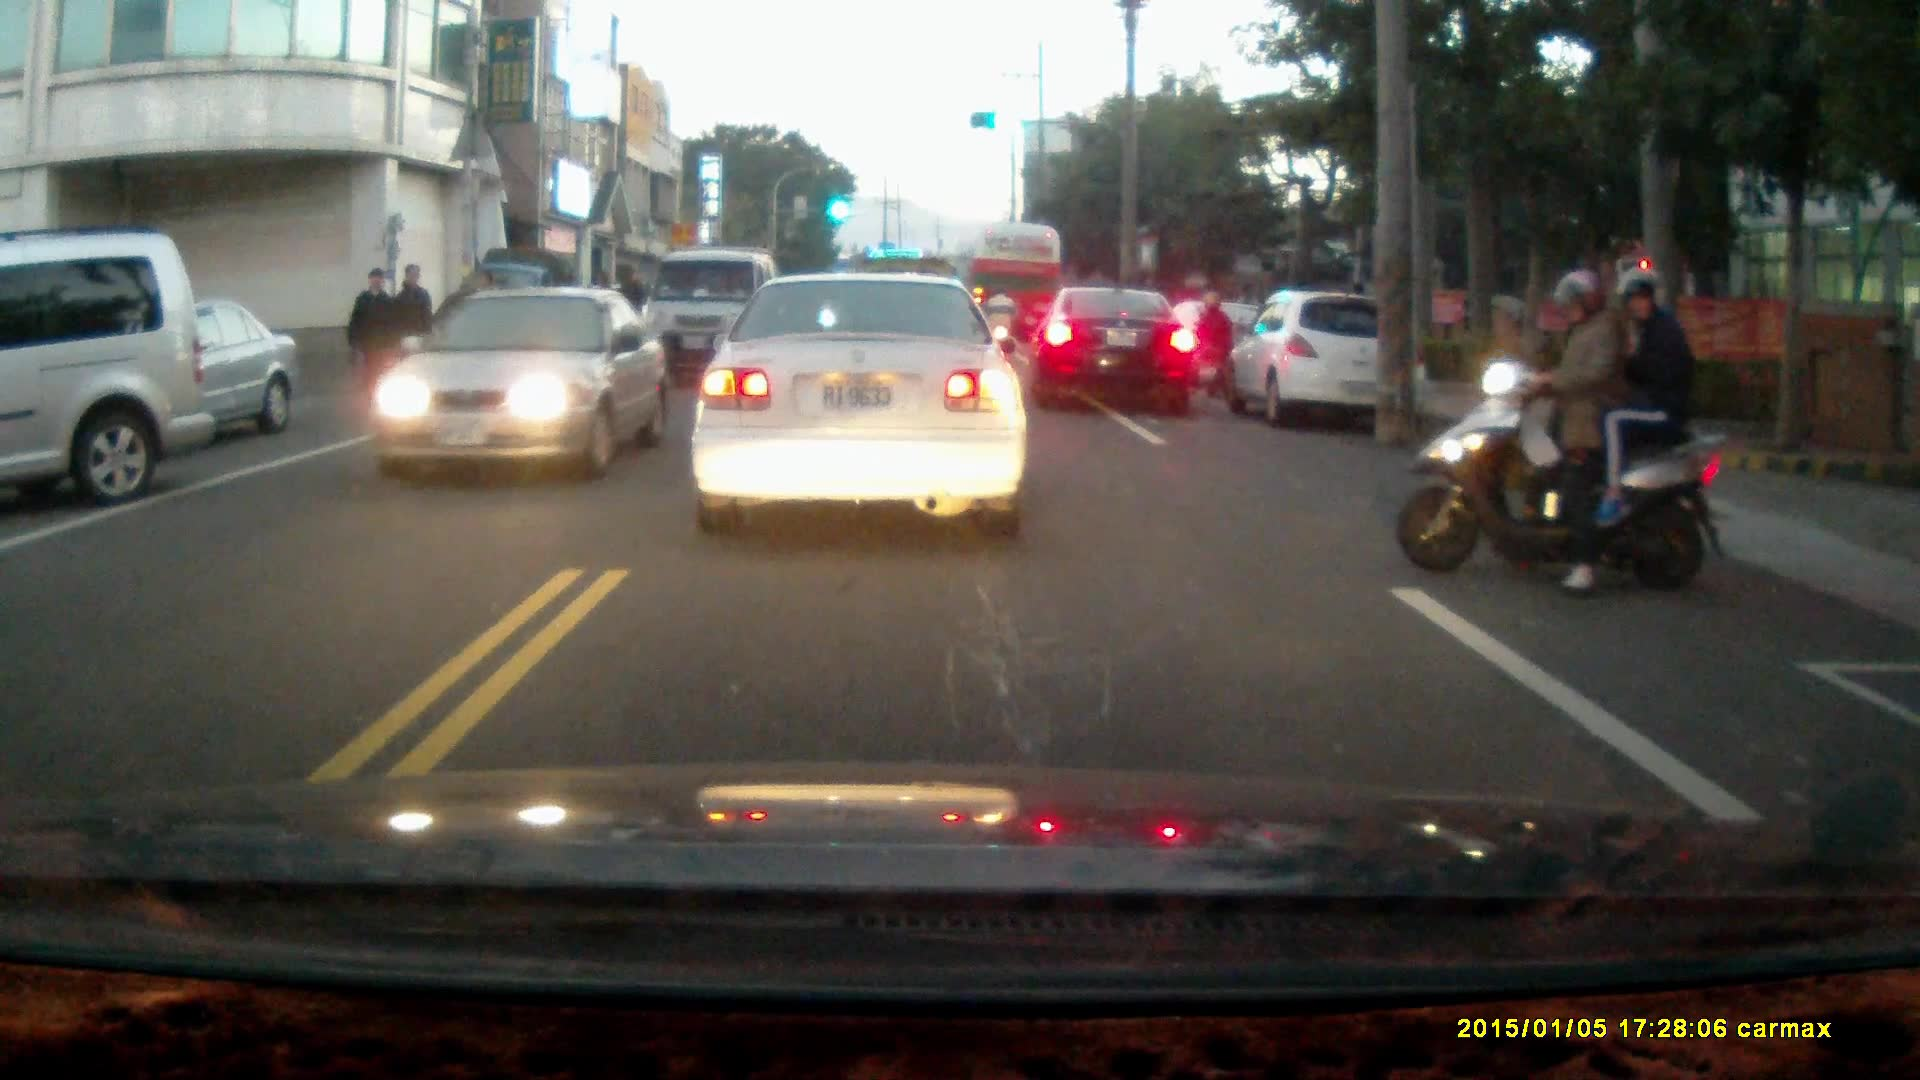pedestrian: (342, 263, 399, 419), (388, 262, 433, 394), (616, 268, 645, 352)
rider: (1397, 265, 1730, 599), (1189, 290, 1236, 400), (980, 285, 1019, 362)
vehicle: (691, 266, 1030, 539), (1, 223, 214, 506), (373, 286, 673, 485), (26, 292, 302, 443), (1237, 290, 1432, 434), (1029, 290, 1204, 418), (648, 247, 780, 385), (964, 222, 1068, 357)
